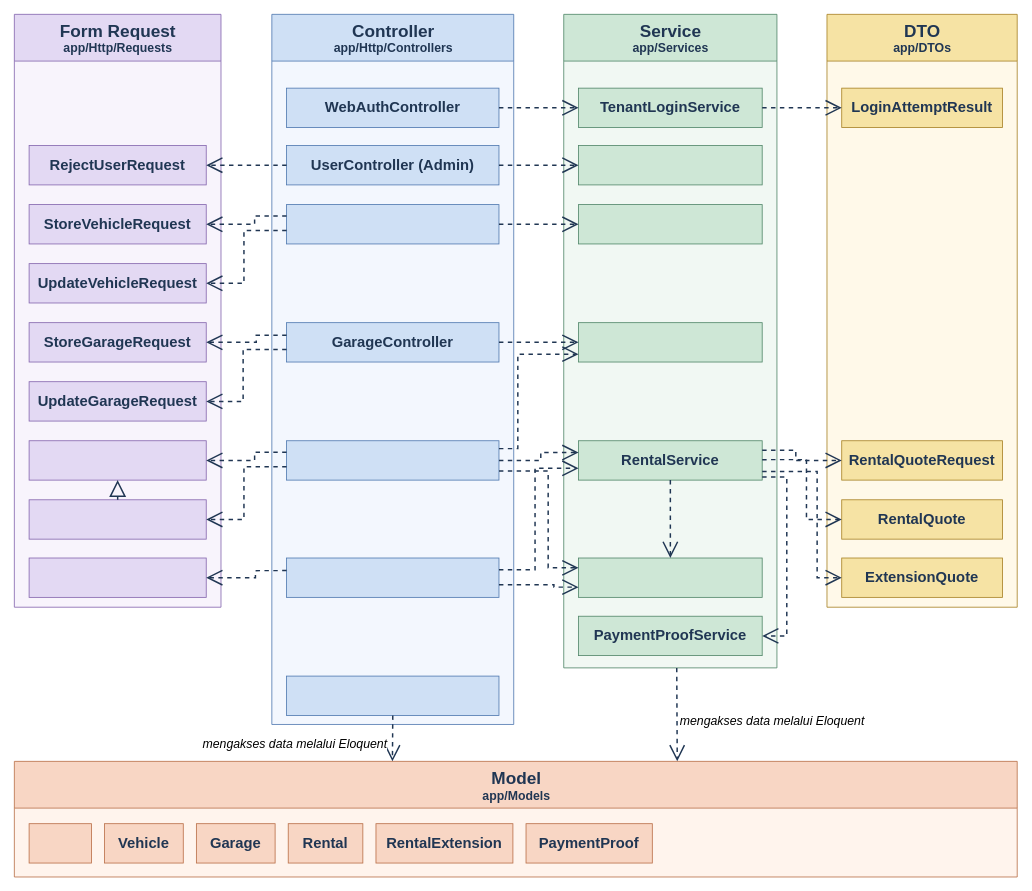
Image size: 1032x891. Some labels were removed from this diagram. Here are the shapes that lost their labels. From the top down, the centre of each, then its label:
point (670, 165): UserVerificationService
point (392, 224): VehicleController
point (670, 224): VehicleService
point (670, 342): GarageService
point (117, 460): PreviewRentalRequest
point (392, 460): RentalController (Penyewa)
point (117, 519): StoreRentalRequest
point (117, 577): ExtendRentalRequest
point (392, 577): RentalController (Admin)
point (670, 577): BillingService
point (392, 695): ReportController
point (59, 843): User
